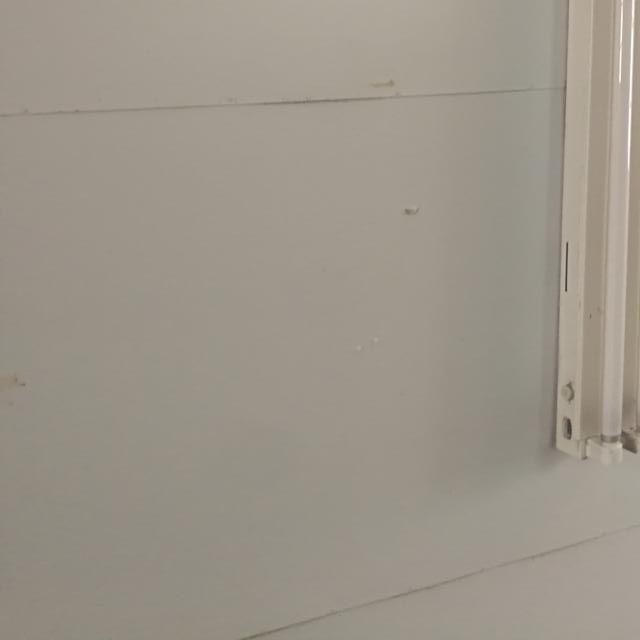fluorescent tube: (520, 0, 640, 479)
